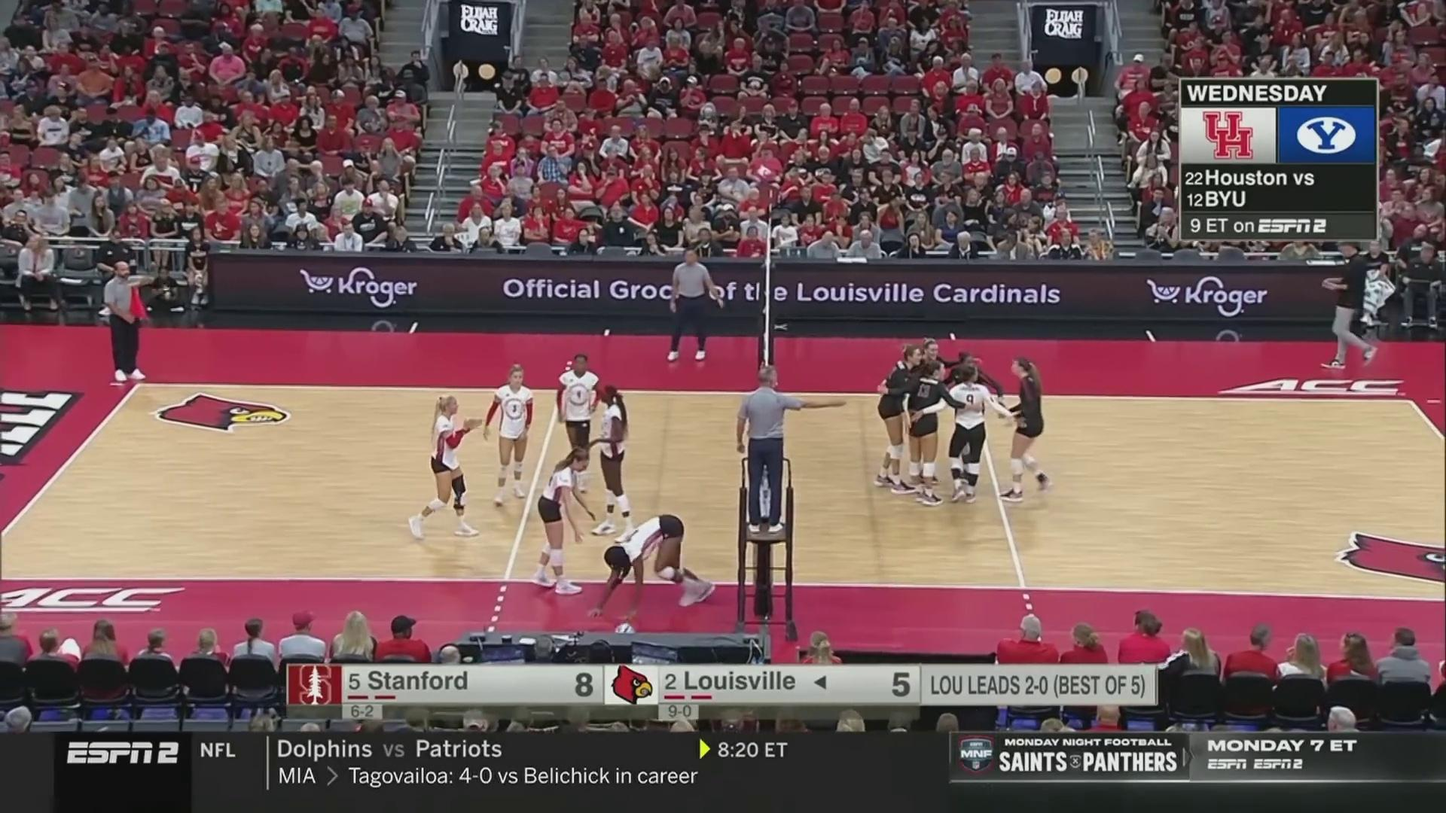player: (589, 514, 716, 620), (410, 396, 483, 535), (892, 363, 962, 506), (934, 365, 1006, 501), (942, 353, 1004, 483), (535, 448, 589, 595), (872, 346, 921, 494), (593, 384, 639, 539), (1002, 359, 1052, 501), (905, 336, 952, 484), (486, 364, 535, 505), (559, 353, 603, 488)
refree: (737, 367, 825, 534), (670, 247, 726, 367), (104, 260, 158, 382)
